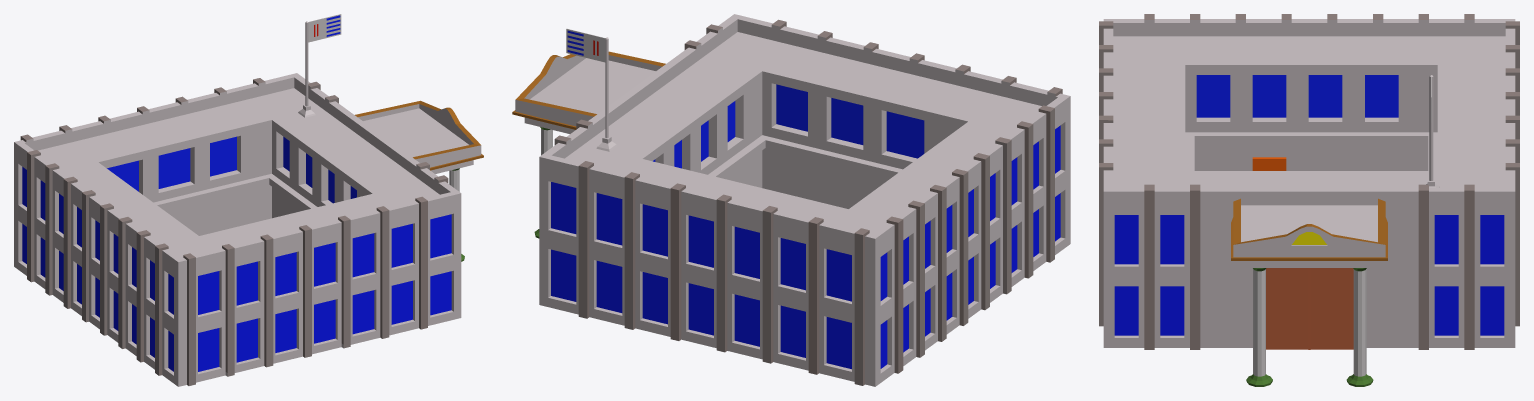
File: 3 Meria.fbx
3 renders of one model, left to right at view 1: azimuth 30°, elevation 25°; view 2: azimuth 150°, elevation 25°; view 3: azimuth 270°, elevation 25°, orthographic. The views are drawn at different scales.
Parts seen in each view (by area): view 1: Cube.004; view 2: Cube.004; view 3: Cube.004.
Part boxes in pixels (bbox=[...]): Cube.004: bbox=[14, 14, 483, 386]; Cube.004: bbox=[512, 14, 1070, 386]; Cube.004: bbox=[1099, 14, 1519, 386].
Bounding box in the file's own units: 1063 × 583 × 861.
